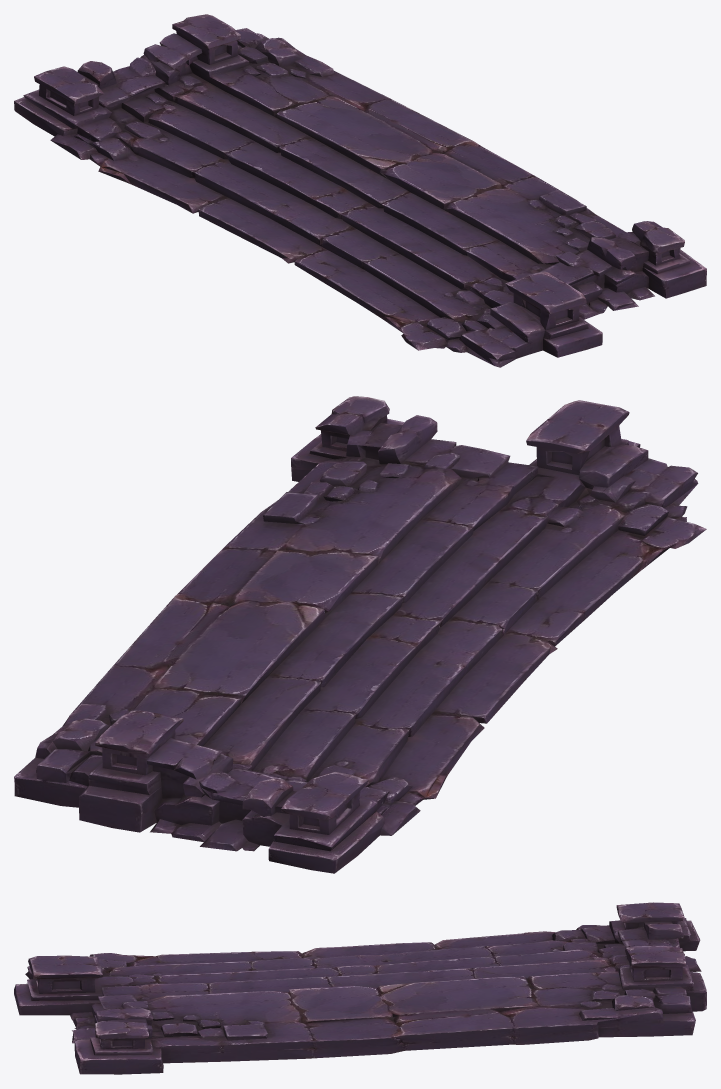
Rendered from approach_stairs.glb.
3 views of the same model, one above another, from view 1: azimuth 30°, elevation 25°; view 2: azimuth 150°, elevation 25°; view 3: azimuth 270°, elevation 25° (orthographic). The views are drawn at different scales.
Parts seen in each view (by area): view 1: body; view 2: body; view 3: body.
Part boxes in pixels (x1,y1,x2,y2): body: (14,14,706,367); body: (14,396,706,873); body: (14,902,706,1074).
Size of the model in its own units: 3 by 0.4983 by 6.
1 material, 1 textured.
